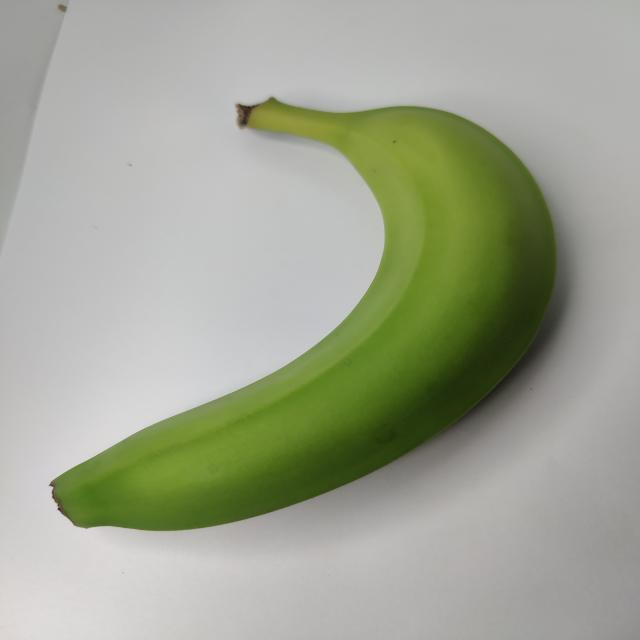raw: (25, 69, 620, 554)
